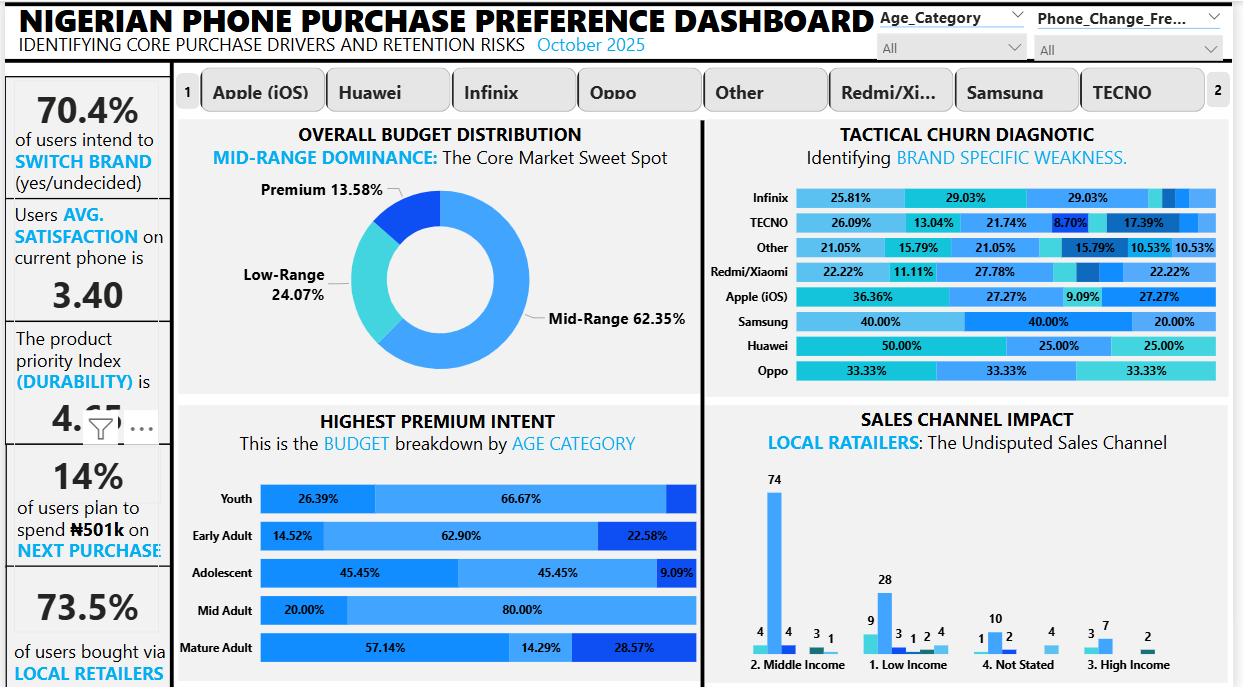

What the dashboard file says about the page in this screenshot:
{"tool":"powerbi","page":{"name":"Page 2","canvas":[1280,720],"ordinal":1},"visuals":[{"type":"slicer","fields":{"Values":["Phone_Purchase_Preference.Age_Category"]},"box":[898.6,0,175.7,63.4],"z":0,"group":"g2"},{"type":"advancedSlicerVisual","fields":{"Values":["Phone_Purchase_Preference.Current_Brand"]},"box":[178.6,64.8,1100.2,56.2],"z":0},{"type":"card","fields":{"Values":["KPI.Churn_Rate %"]},"box":[8.6,82.1,152.6,59],"z":0,"group":"g1"},{"type":"slicer","fields":{"Values":["Phone_Purchase_Preference.Phone_Change_Frequency"]},"box":[1062.8,1.4,216,60.5],"z":1000,"group":"g2"},{"type":"group","id":"g1","title":"Group 1","box":[8.6,82.1,152.6,576],"z":1000},{"type":"card","fields":{"Values":["KPI.Avg_Satisfaction"]},"box":[8.6,275.1,152.6,59],"z":1000,"group":"g1"},{"type":"donutChart","fields":{"Category":["Phone_Purchase_Preference.Budget_Range_NGN"],"Y":["Chart Measures.Respondent_Count"]},"box":[178.6,165.6,550.1,249.1],"z":1001},{"type":"hundredPercentStackedBarChart","fields":{"Category":["Phone_Purchase_Preference.Current_Brand"],"Series":["Phone_Purchase_Preference.Reason_for_Switch"],"Y":["Chart Measures.Respondent_Count"]},"box":[728.6,171.4,538.6,239],"z":1002},{"type":"hundredPercentStackedBarChart","fields":{"Y":["Chart Measures.Respondent_Count"],"Category":["Phone_Purchase_Preference.Age_Category"],"Series":["Phone_Purchase_Preference.Budget_Range_NGN"]},"box":[175.7,475.2,550.1,234.7],"z":1003},{"type":"clusteredColumnChart","fields":{"Category":["Phone_Purchase_Preference.Income_Range_NGN"],"Y":["Chart Measures.Respondent_Count"],"Series":["Phone_Purchase_Preference.Purchase_Channel"]},"box":[729,475,539,235],"z":1004},{"type":"group","id":"g2","title":"Group 2","box":[898.6,0,380.2,63.4],"z":1005},{"type":"shape","box":[1251.4,73.4,24.5,37.4],"z":1006},{"type":"shape","box":[178.6,74.9,24.5,37.4],"z":1007},{"type":"card","fields":{"Values":["KPI.Avg_Durability"]},"box":[8.6,403.2,152.6,59],"z":2000,"group":"g1"},{"type":"card","fields":{"Values":["KPI.Premuim_Budget %"]},"box":[8.6,463.7,152.6,59],"z":3000,"group":"g1"},{"type":"card","fields":{"Values":["KPI.Local_Retailer_Share %"]},"box":[8.6,599.1,152.6,59],"z":4000,"group":"g1"}]}

Visuals, with their boxes in screenshot pixels (x1, y1, x2, y2), scaled from the page's 1280x720 canvas onto the 1243x687 screenshot:
slicer - Phone_Purchase_Preference.Age_Category: locate(873, 0, 1043, 60)
advancedSlicerVisual - Phone_Purchase_Preference.Current_Brand: locate(173, 62, 1242, 115)
card - KPI.Churn_Rate %: locate(8, 78, 157, 135)
slicer - Phone_Purchase_Preference.Phone_Change_Frequency: locate(1032, 1, 1242, 59)
"Group 1" group: locate(8, 78, 157, 628)
card - KPI.Avg_Satisfaction: locate(8, 262, 157, 319)
donutChart - Phone_Purchase_Preference.Budget_Range_NGN x Chart Measures.Respondent_Count: locate(173, 158, 708, 396)
hundredPercentStackedBarChart - Phone_Purchase_Preference.Current_Brand x Phone_Purchase_Preference.Reason_for_Switch: locate(708, 164, 1231, 392)
hundredPercentStackedBarChart - Chart Measures.Respondent_Count x Phone_Purchase_Preference.Age_Category: locate(171, 453, 705, 677)
clusteredColumnChart - Phone_Purchase_Preference.Income_Range_NGN x Chart Measures.Respondent_Count: locate(708, 453, 1231, 677)
"Group 2" group: locate(873, 0, 1242, 60)
shape: locate(1215, 70, 1239, 106)
shape: locate(173, 71, 197, 107)
card - KPI.Avg_Durability: locate(8, 385, 157, 441)
card - KPI.Premuim_Budget %: locate(8, 442, 157, 499)
card - KPI.Local_Retailer_Share %: locate(8, 572, 157, 628)
